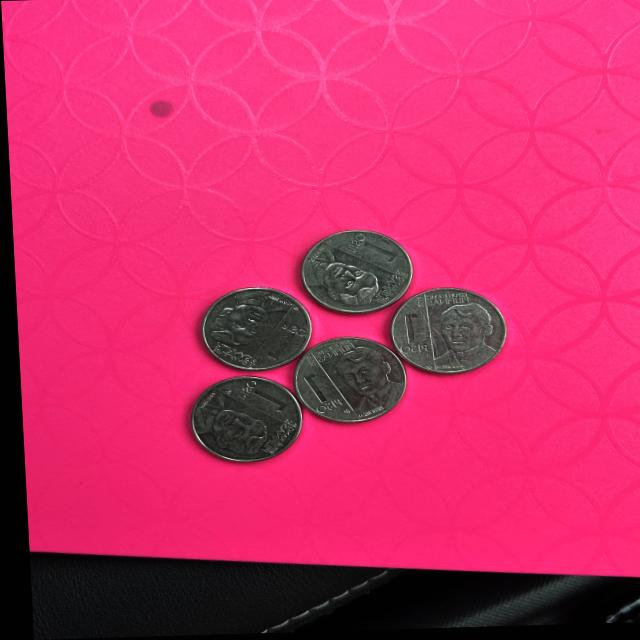1_New_Front: (254, 321, 304, 370), (226, 377, 285, 412), (391, 313, 428, 362), (297, 372, 337, 417), (341, 233, 392, 262)
